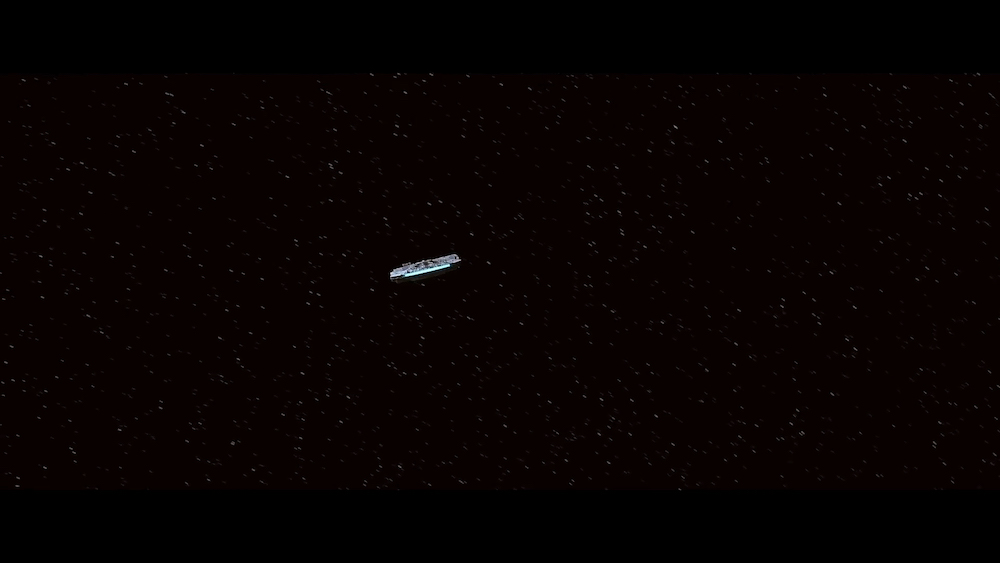Millennium Falcon: (391, 255, 462, 285)
